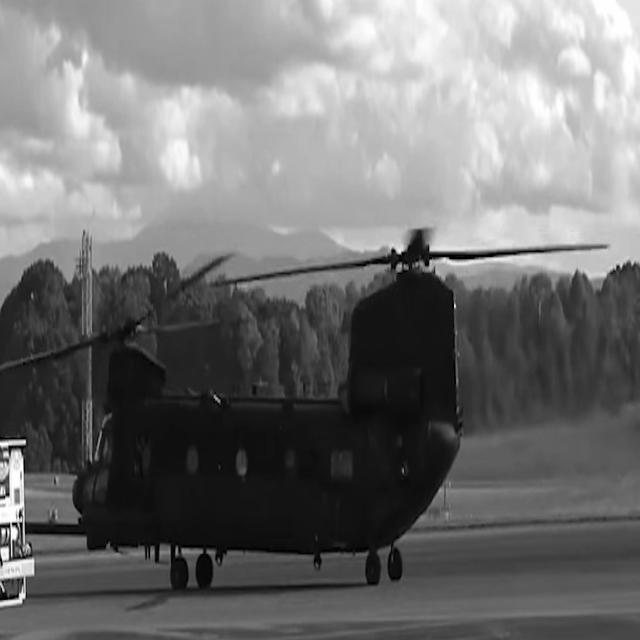Helicopter: (75, 237, 520, 591)
